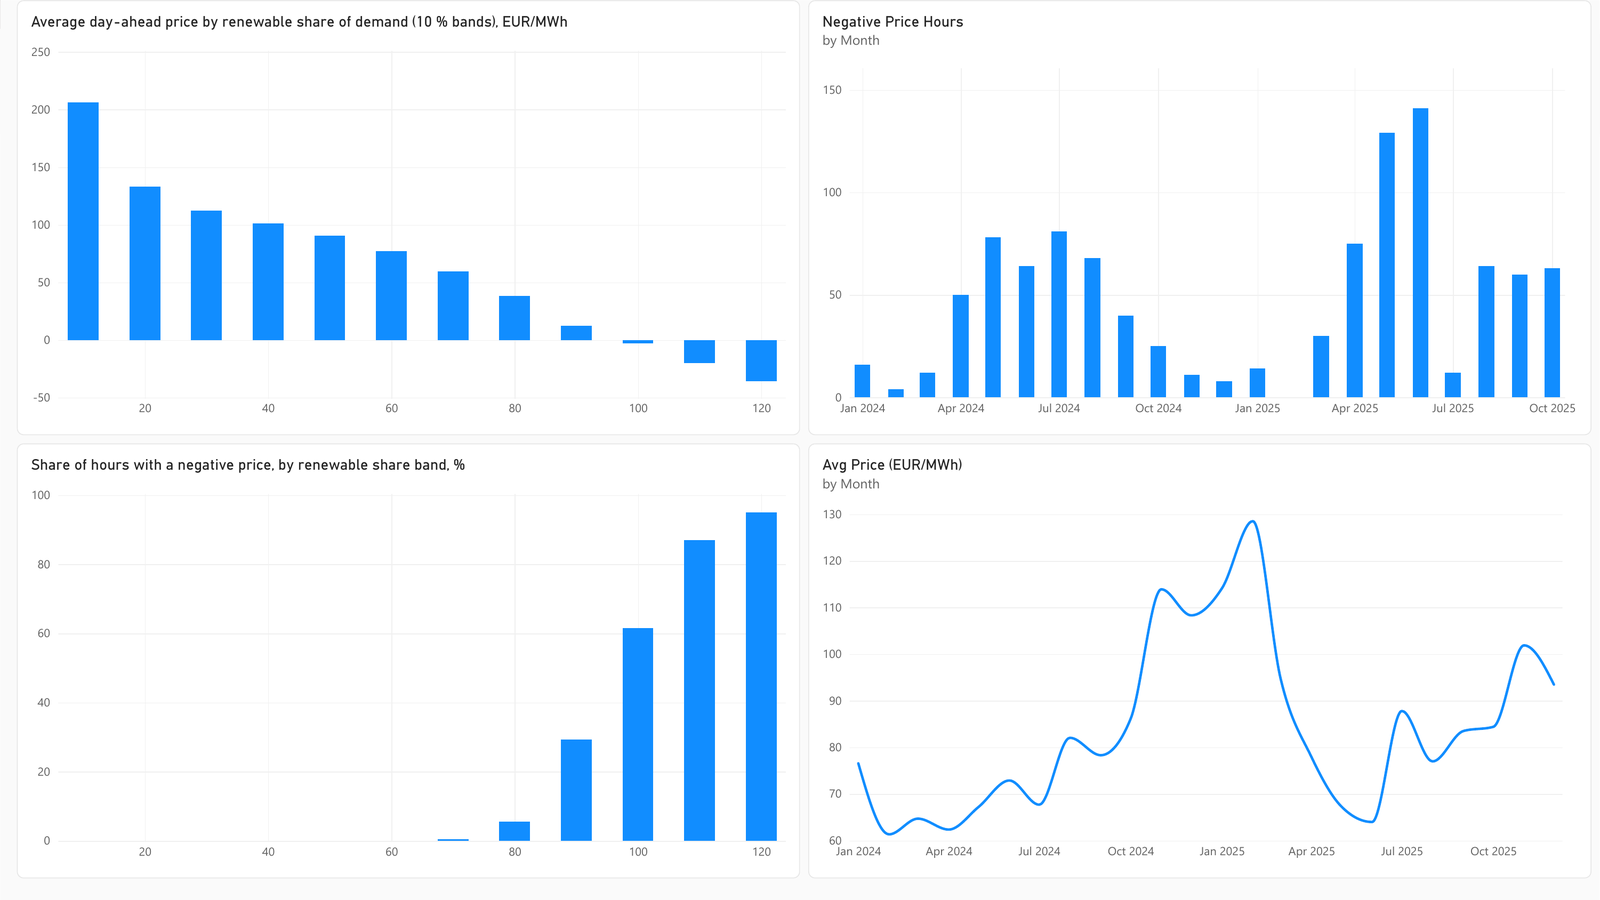

Layout of this report page (visuals, bound fields, positions):
{"tool":"powerbi","page":{"name":"Prices","canvas":[1920,1080],"ordinal":1},"visuals":[{"type":"clusteredColumnChart","title":"Average day-ahead price by renewable share of demand (10 % bands), EUR/MWh","fields":{"Category":["fct_grid_hourly.Renewable Share Band"],"Y":["fct_grid_hourly.Avg Price (EUR/MWh)"]},"box":[20.3,0,940.2,522.3],"z":0},{"type":"clusteredColumnChart","title":"Share of hours with a negative price, by renewable share band, %","fields":{"Category":["fct_grid_hourly.Renewable Share Band"],"Y":["fct_grid_hourly.Negative Price Share %"]},"box":[20,532,940,522],"z":1000},{"type":"clusteredColumnChart","fields":{"Category":["dim_date.Month"],"Y":["fct_grid_hourly.Negative Price Hours"]},"box":[970,0,940,522],"z":2000},{"type":"lineChart","fields":{"Category":["dim_date.Month"],"Y":["fct_grid_hourly.Avg Price (EUR/MWh)"]},"box":[970,532,940,522],"z":3000}]}

Visuals, with their boxes in screenshot pixels (x1, y1, x2, y2), scaled from the page's 1920x1080 canvas onto the 1600x900 screenshot:
"Average day-ahead price by renewable share of demand (10 % bands), EUR/MWh" clusteredColumnChart: l=17, t=0, r=800, b=435
"Share of hours with a negative price, by renewable share band, %" clusteredColumnChart: l=17, t=443, r=800, b=878
clusteredColumnChart - dim_date.Month x fct_grid_hourly.Negative Price Hours: l=808, t=0, r=1592, b=435
lineChart - dim_date.Month x fct_grid_hourly.Avg Price (EUR/MWh): l=808, t=443, r=1592, b=878
